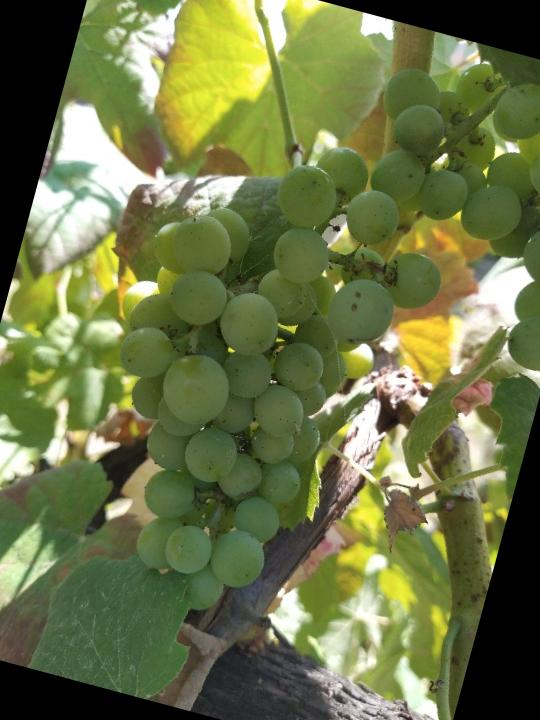grape: (22, 92, 470, 654)
